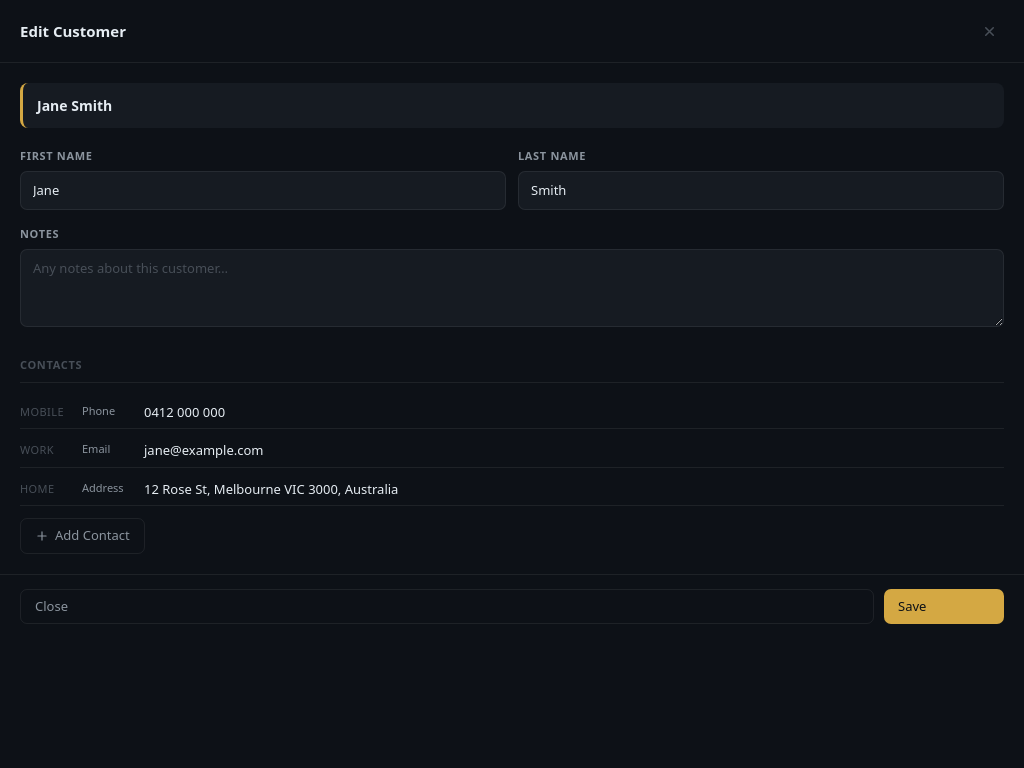
Test: CustomerDetail › shows a validation message on the Value field when blank
Expected: the text "Jane Smith" is shown, [37,96,112,115]
Click the button "Add Contact": point(82, 536) [20,518,145,554]
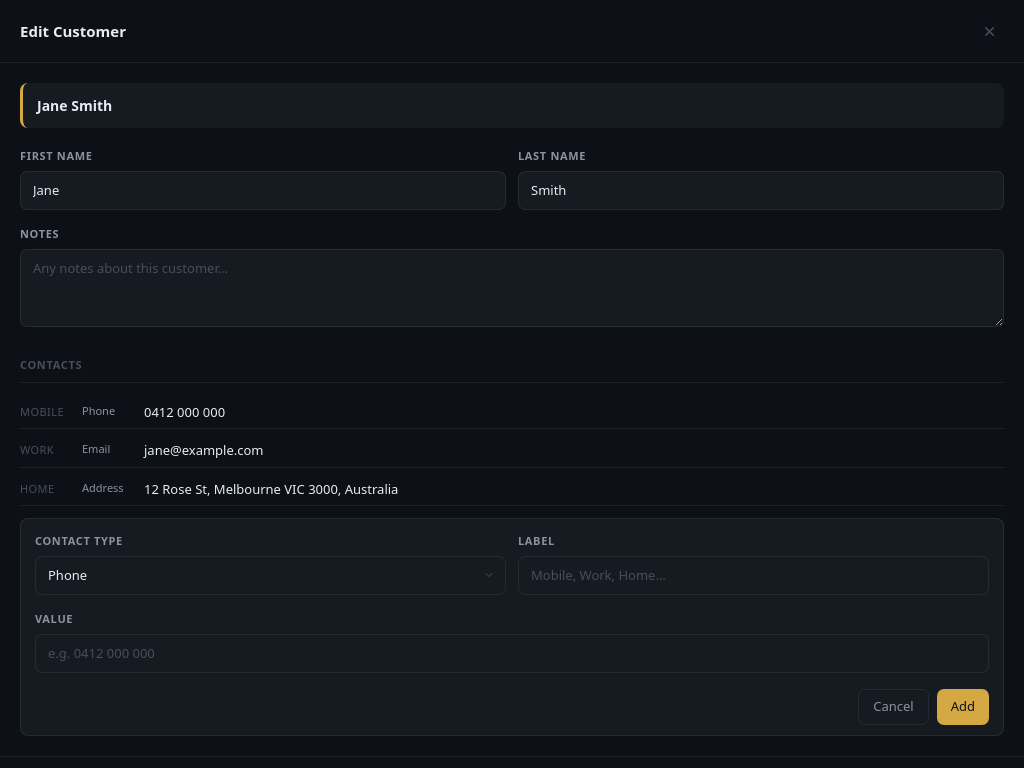
Select "Phone" in the dropdown labelled "Contact Type": point(270, 575) [35,556,506,595]
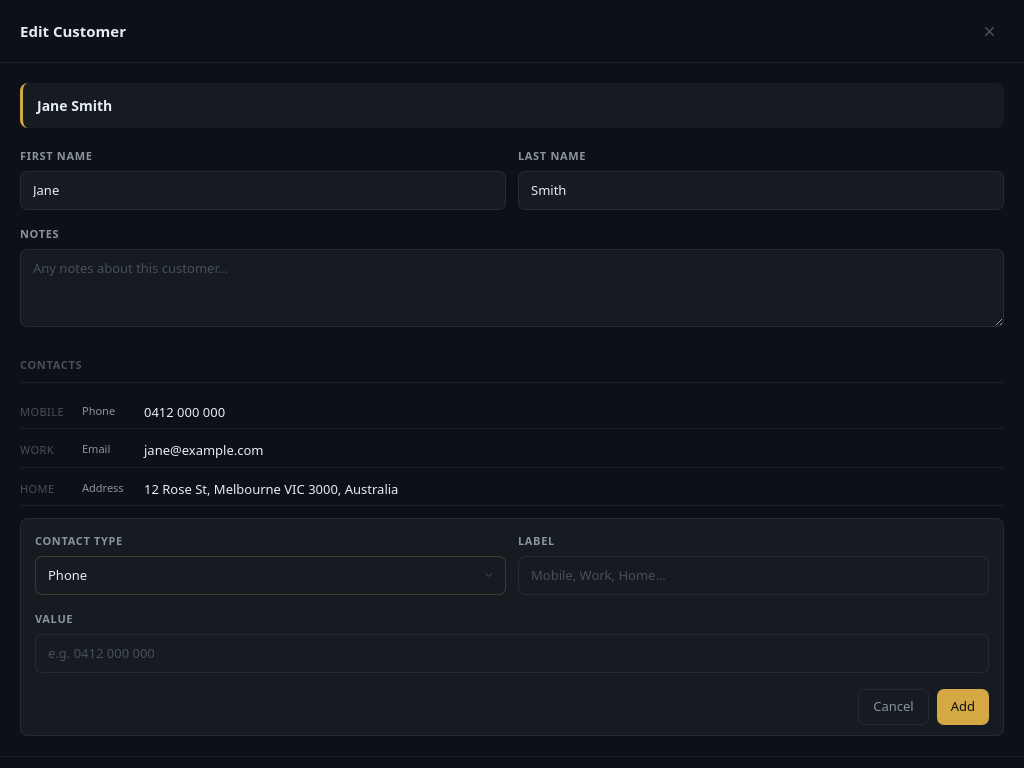
Click the button "Add": point(963, 707) [937,689,989,724]
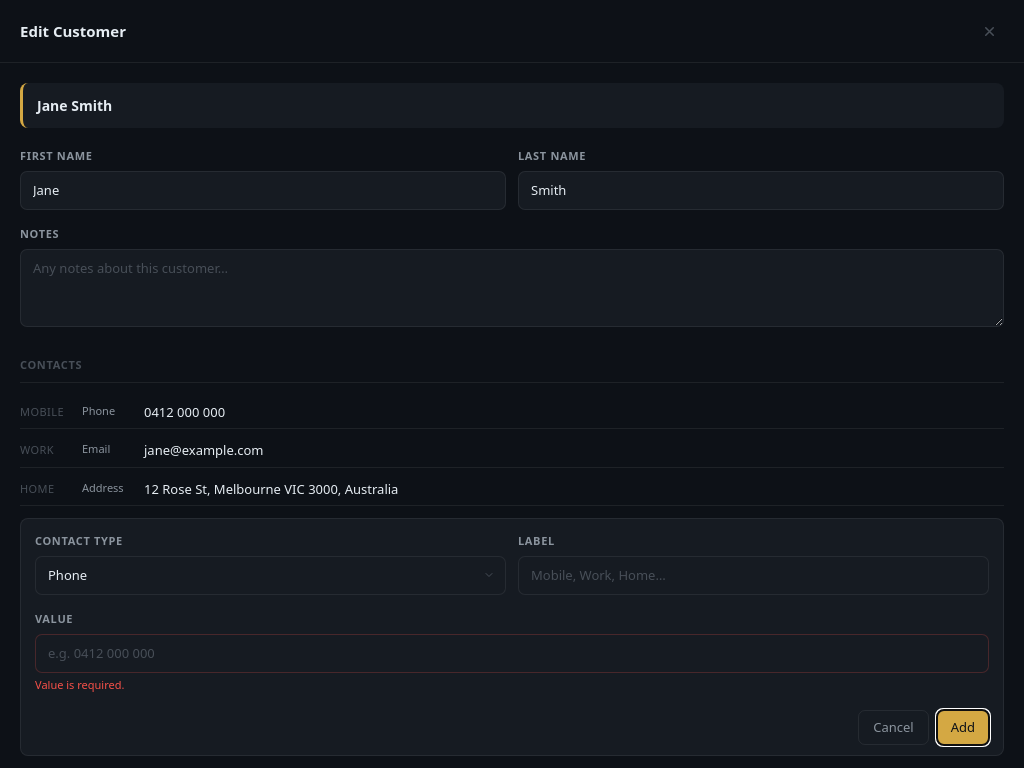
Now the text "Value is required." is shown, box [35,677,124,692]
